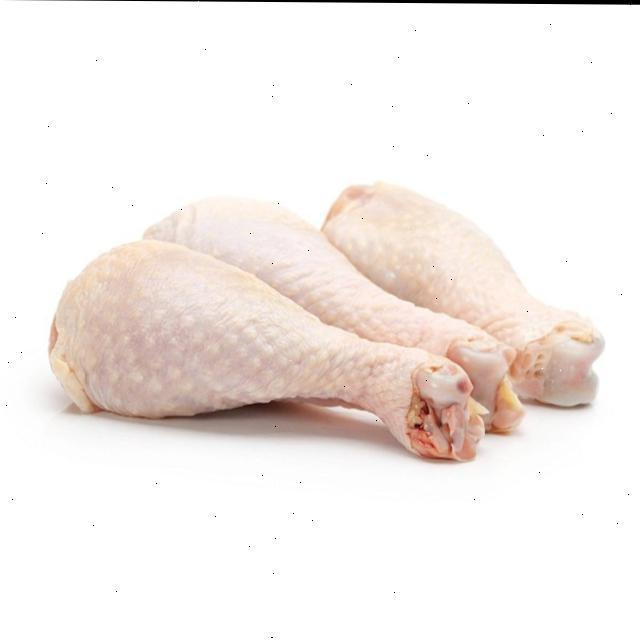leg: (53, 238, 474, 472), (135, 179, 514, 428), (319, 166, 603, 408)
